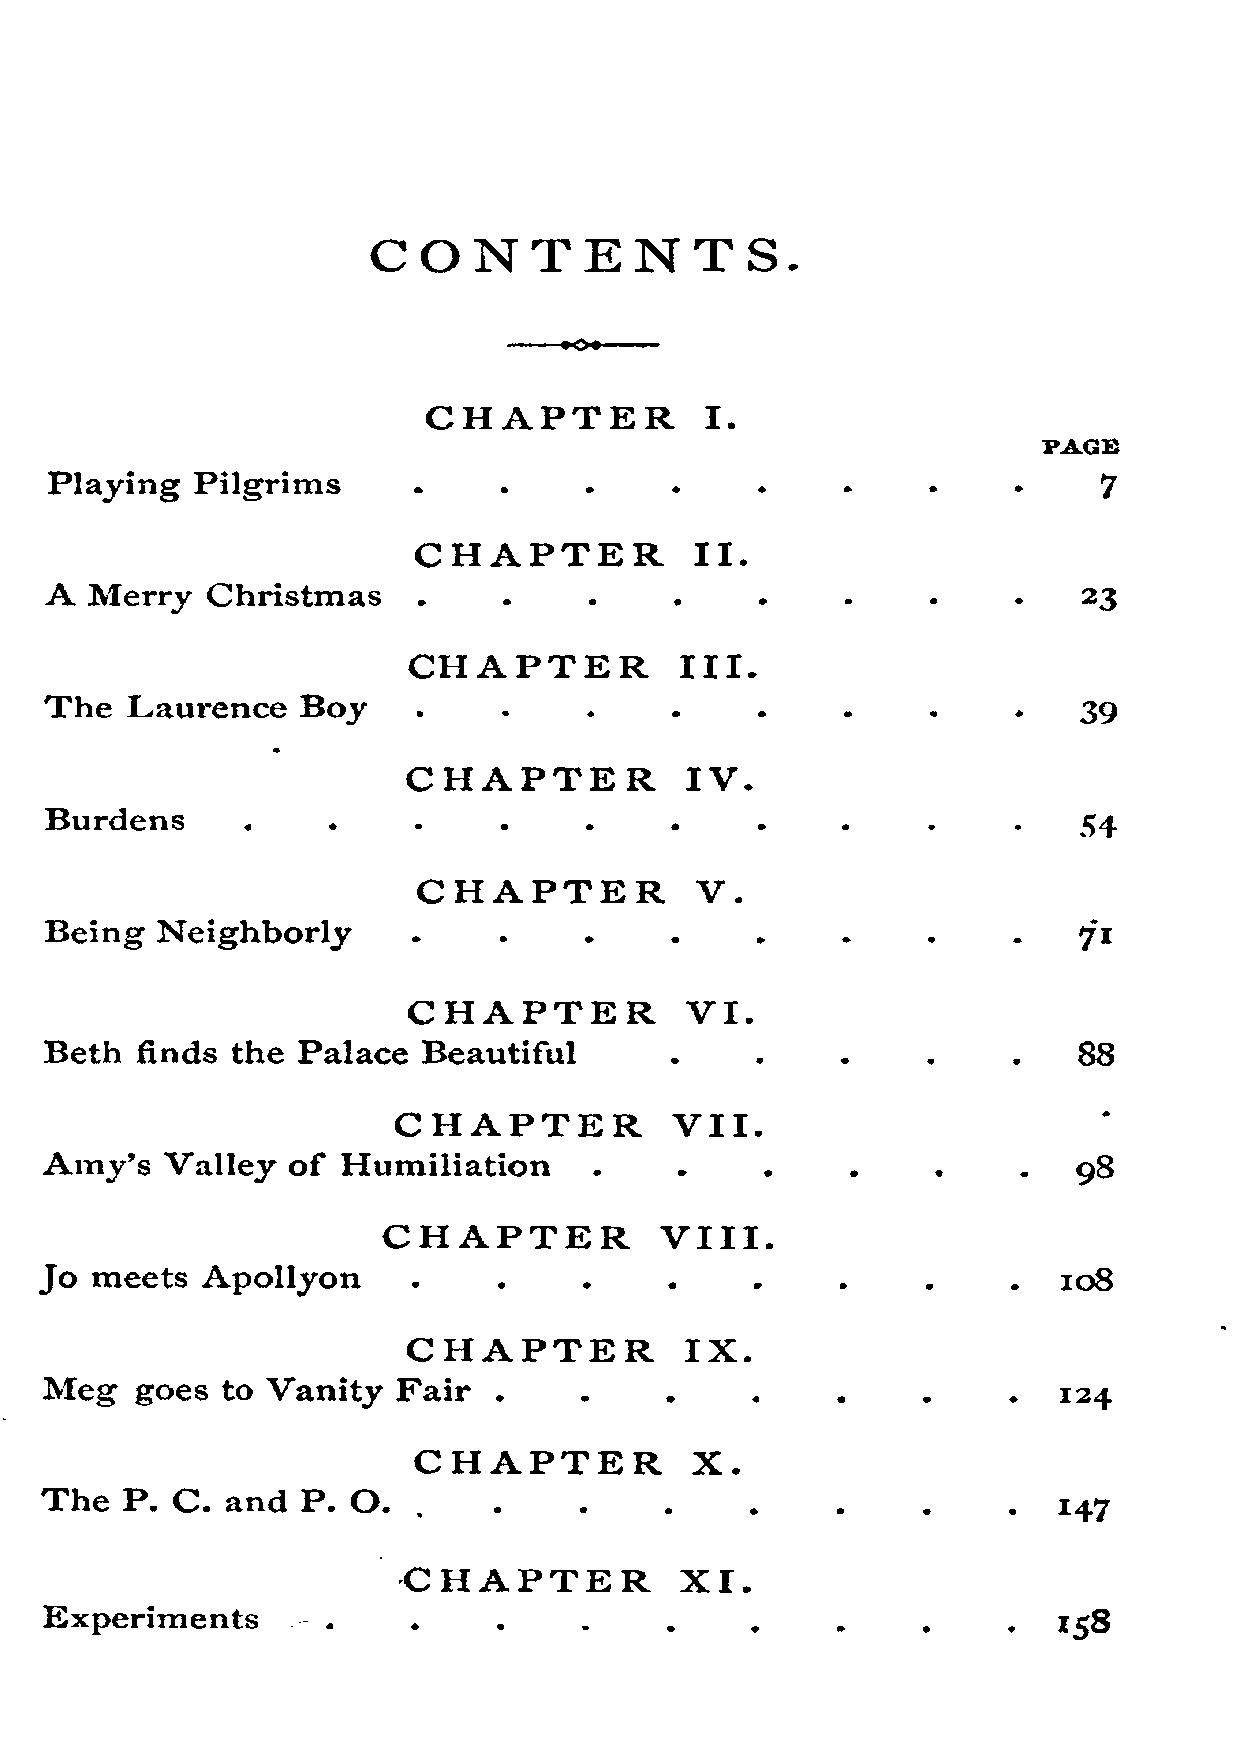TOC_chapter: (38, 1146, 553, 1186), (42, 1033, 576, 1071), (40, 1369, 470, 1408), (376, 1217, 769, 1257), (32, 1482, 395, 1525), (404, 1439, 747, 1482), (397, 1327, 756, 1368), (384, 1104, 766, 1142), (413, 535, 749, 574), (40, 687, 373, 726), (46, 577, 388, 615), (403, 651, 760, 686), (396, 1562, 753, 1597), (403, 761, 758, 796), (39, 913, 354, 951), (30, 1260, 368, 1296), (421, 401, 739, 439), (404, 993, 741, 1027), (44, 466, 345, 503), (411, 874, 726, 909), (39, 1600, 267, 1635), (42, 803, 191, 832)
TOC_pagenumber: (1053, 1606, 1117, 1640), (1071, 1035, 1127, 1071), (1053, 1490, 1108, 1525), (1057, 1260, 1115, 1292), (1060, 1381, 1115, 1414), (1076, 692, 1121, 731), (1075, 808, 1121, 845), (1076, 1147, 1115, 1186), (1091, 466, 1129, 505), (1076, 581, 1119, 615), (1075, 919, 1113, 956)
chapter: (365, 235, 788, 276)
